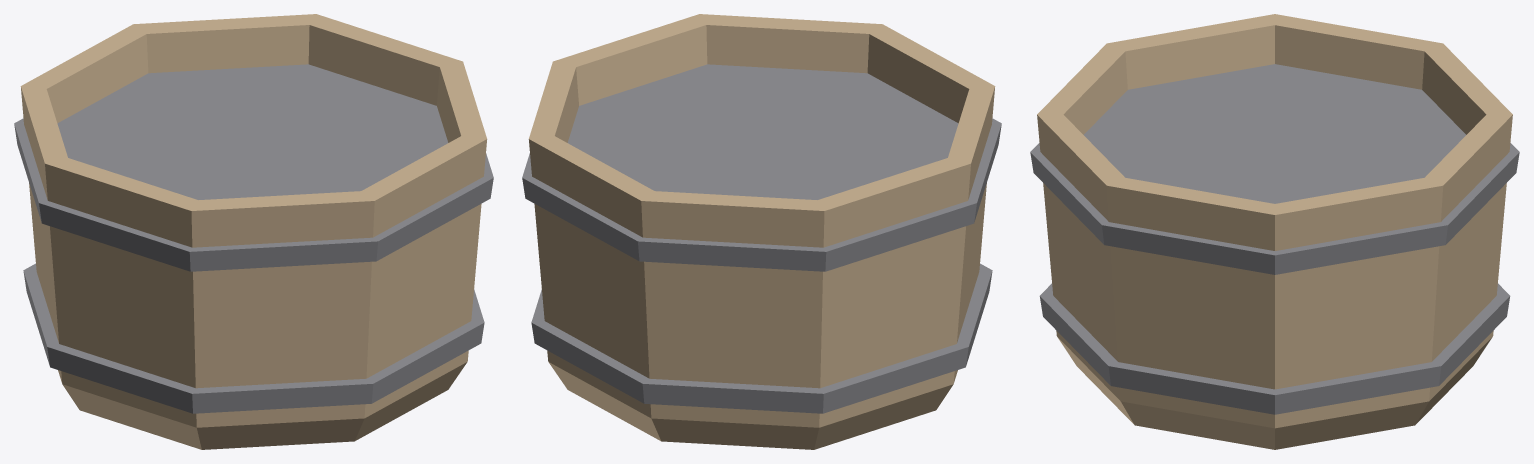
Rendered from prop-tanning-vat-small.fbx.
3 views of the same model, side by side, from view 1: azimuth 30°, elevation 25°; view 2: azimuth 150°, elevation 25°; view 3: azimuth 270°, elevation 25° (orthographic).
Parts seen in each view (by area): view 1: prop-tanning-vat-small; view 2: prop-tanning-vat-small; view 3: prop-tanning-vat-small.
Part boxes in pixels (x1,y1,x2,y2): prop-tanning-vat-small: (14,14,493,449); prop-tanning-vat-small: (522,14,1001,449); prop-tanning-vat-small: (1030,14,1519,449).
Size of the model in its own units: 74.05 by 42 by 74.05.
